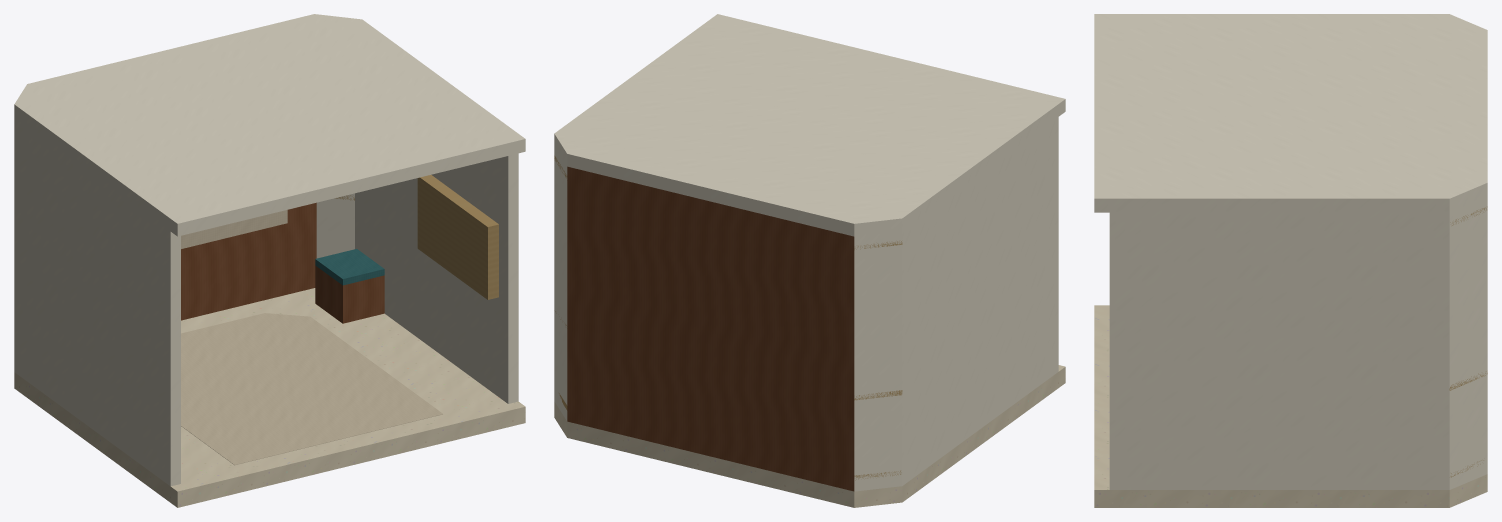
File: AST-CIR-003_ten_stop.glb
3 views of the same model, side by side, from view 1: azimuth 30°, elevation 25°; view 2: azimuth 150°, elevation 25°; view 3: azimuth 270°, elevation 25° (orthographic). The views are drawn at different scales.
Parts seen in each view (by area): view 1: CAB_Roof, CAB_Side_-1, CAB_FloorInlay, CAB_Platform, CAB_Side_1, CAB_RearPanel, CAB_TenStopControlPanel, CAB_SeatBase_1, CAB_FacetedRear_1, CAB_SeatPad_1, CAB_RecessedBackrest; view 2: CAB_RearPanel, CAB_Roof, CAB_Side_-1, CAB_FacetedRear_-1, CAB_Platform, CAB_FacetedRear_1; view 3: CAB_Side_1, CAB_Roof, CAB_FacetedRear_1, CAB_Platform.
Part boxes in pixels (x1=…): CAB_Roof: x1=14, y1=14, x2=525, y2=236; CAB_Side_-1: x1=14, y1=117, x2=180, y2=486; CAB_FloorInlay: x1=181, y1=313, x2=442, y2=465; CAB_Platform: x1=14, y1=288, x2=525, y2=507; CAB_Side_1: x1=355, y1=153, x2=518, y2=403; CAB_RearPanel: x1=181, y1=202, x2=316, y2=320; CAB_TenStopControlPanel: x1=417, y1=175, x2=498, y2=299; CAB_SeatBase_1: x1=315, y1=265, x2=384, y2=323; CAB_FacetedRear_1: x1=316, y1=193, x2=354, y2=258; CAB_SeatPad_1: x1=315, y1=249, x2=384, y2=285; CAB_RecessedBackrest: x1=181, y1=210, x2=287, y2=248; CAB_RearPanel: x1=567, y1=166, x2=854, y2=491; CAB_Roof: x1=554, y1=14, x2=1065, y2=236; CAB_Side_-1: x1=902, y1=117, x2=1058, y2=485; CAB_FacetedRear_-1: x1=854, y1=231, x2=902, y2=491; CAB_Platform: x1=554, y1=365, x2=1065, y2=507; CAB_FacetedRear_1: x1=554, y1=147, x2=567, y2=420; CAB_Side_1: x1=1109, y1=212, x2=1449, y2=489; CAB_Roof: x1=1094, y1=14, x2=1487, y2=212; CAB_FacetedRear_1: x1=1449, y1=196, x2=1487, y2=489; CAB_Platform: x1=1094, y1=305, x2=1487, y2=507.
Size of the model in its own units: 4 by 3.12 by 3.6.
7 materials, 6 textured.
